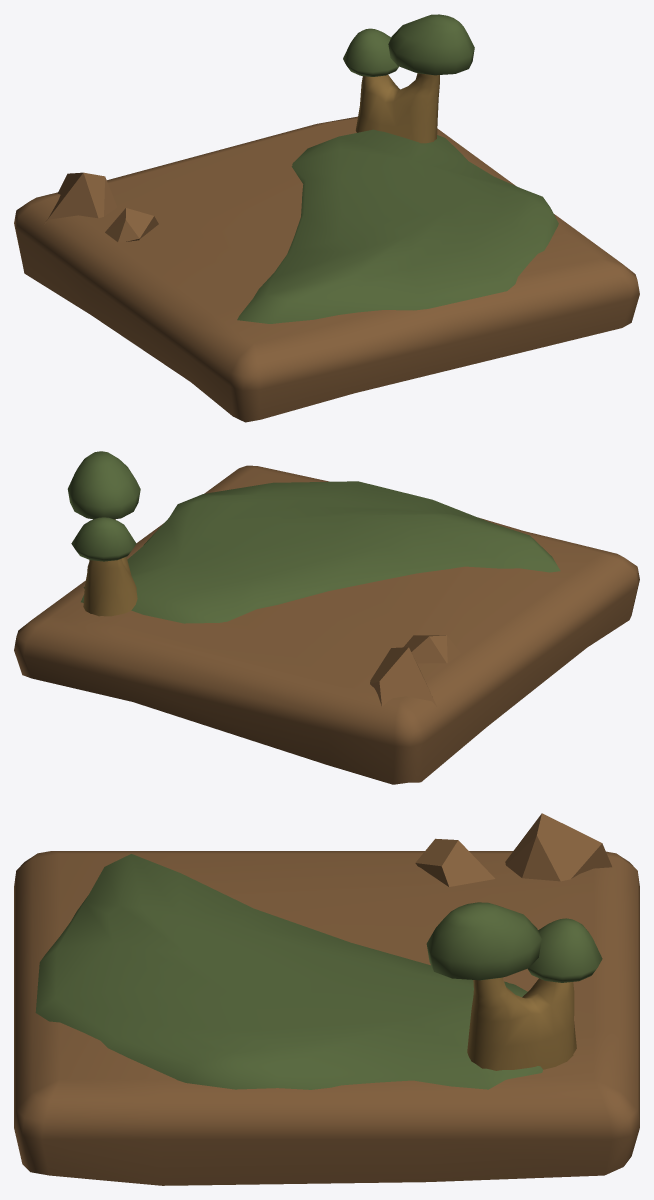
Rendered from Tile_2.fbx.
The picture shows the model from 3 angles, top to bottom: view 1: azimuth 30°, elevation 25°; view 2: azimuth 150°, elevation 25°; view 3: azimuth 270°, elevation 25°; orthographic projection. The views are drawn at different scales.
Visible parts, largest first — view 1: Tile_2; view 2: Tile_2; view 3: Tile_2.
Boxes of the visible parts, x1=… form: Tile_2: x1=14, y1=14, x2=639, y2=422; Tile_2: x1=14, y1=451, x2=639, y2=784; Tile_2: x1=14, y1=813, x2=639, y2=1185.
Size of the model in its own units: 1 by 0.472 by 1.
